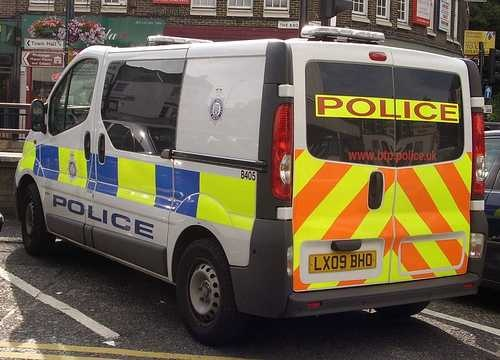Police Van: (16, 45, 485, 328)
